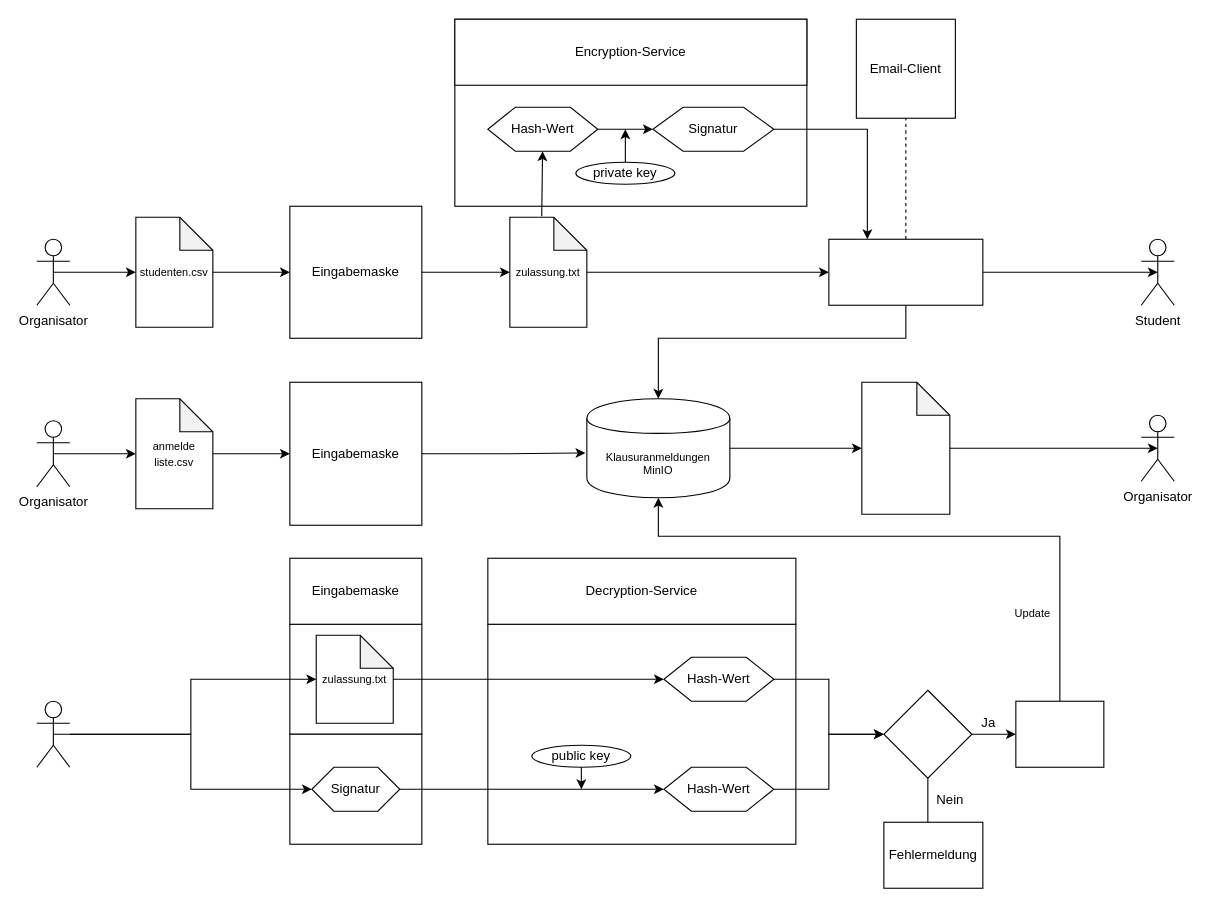
The diagram is 1211 pixels wide and 908 high, and some of its shapes have lost their labels. The centre of each missing label's shape, as x and y in pixels:
Anmeldung erfolgreich: the point at 1059,733
Email: the point at 905,271
Liste der erfolgreichen Anmeldungen .csv: the point at 905,447
Match: the point at 927,733
Student / Organisator: the point at 53,733
